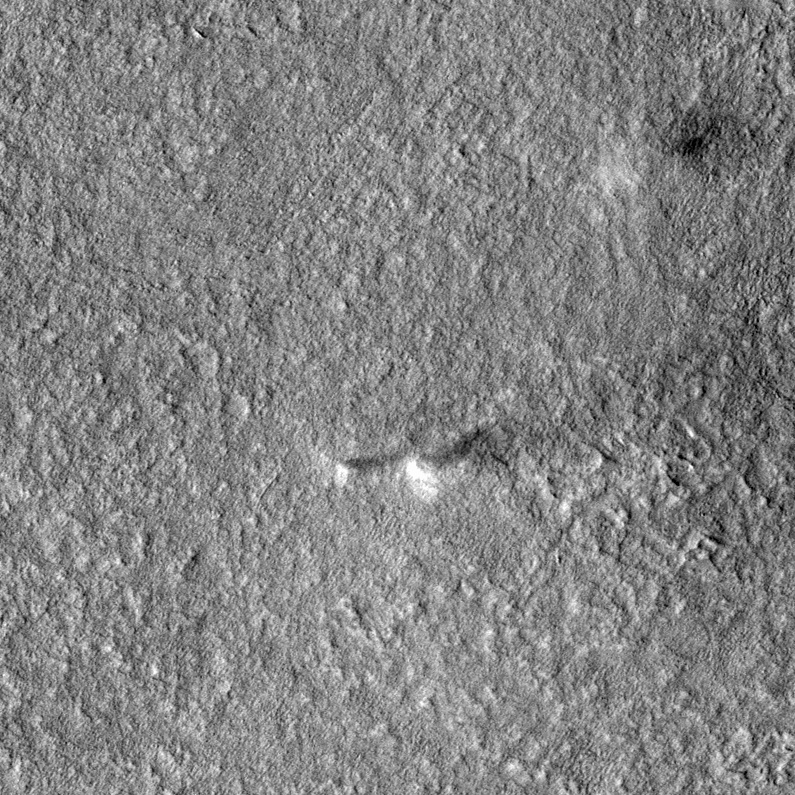dust_devil: (591, 104, 772, 198), (405, 422, 495, 502), (332, 449, 406, 489)
